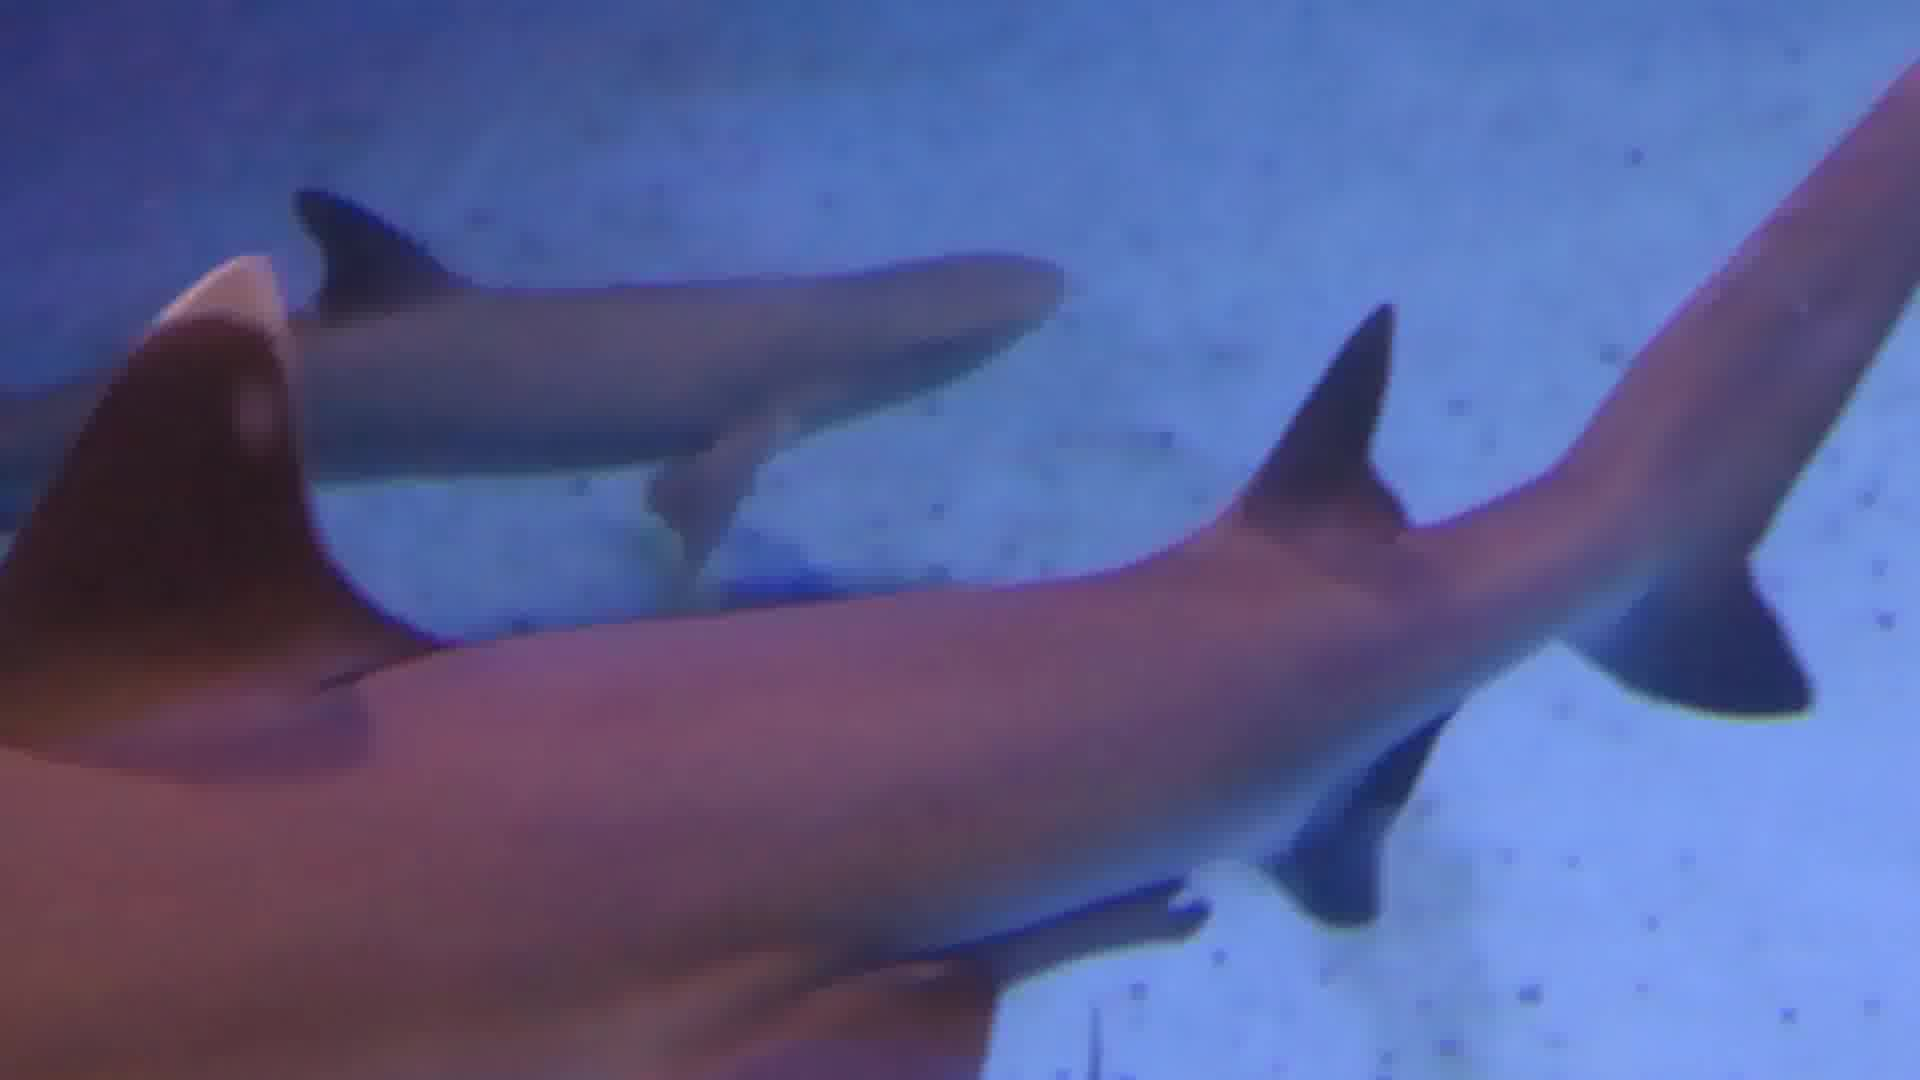Triaenodon obesus: (1, 71, 1920, 1080)
